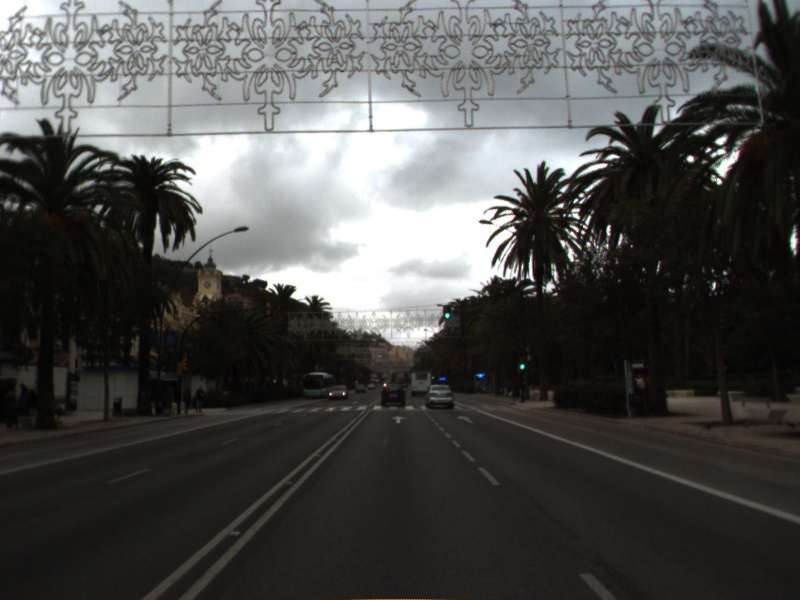STRAIGHT: (454, 413, 477, 426), (389, 414, 408, 425)
